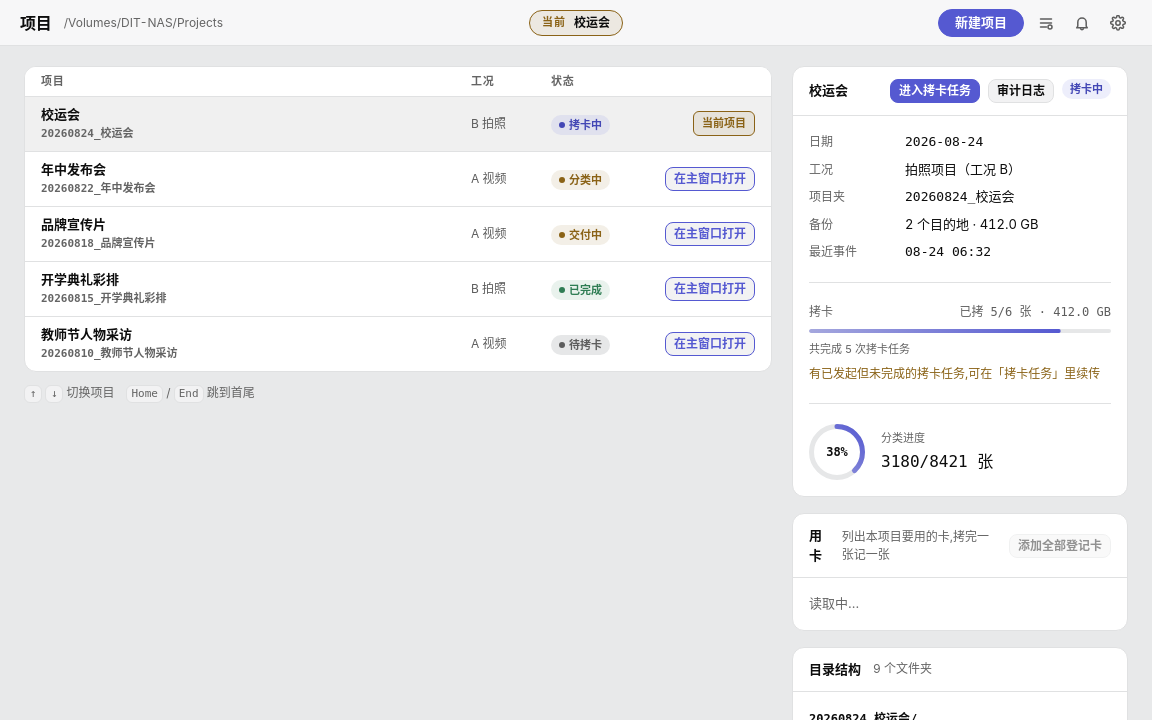
Test: ★ 部分拷贝在日志里的呈现 › 选了卷根显示成「卷根」，不是一对空括号
This screenshot has width=1152, height=720.
Step 1. Click the button with test id "audit-open" → (1021, 91), box [988,79,1054,103]
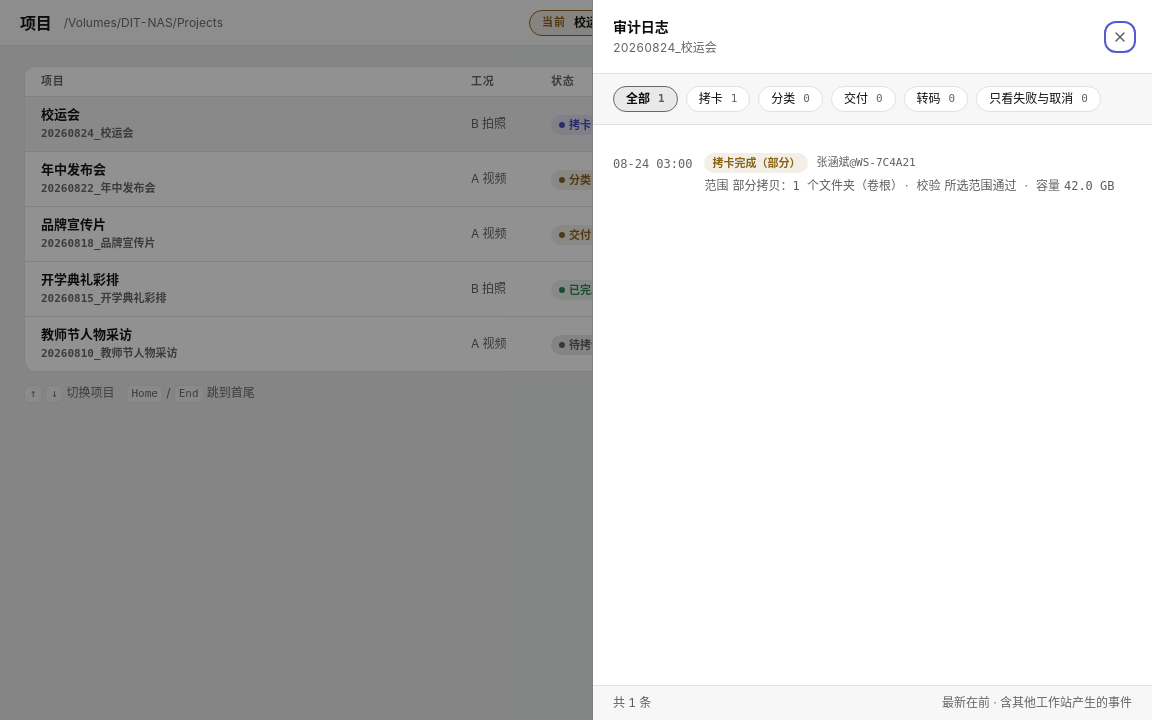
Result: the dialog with test id "audit-log-drawer" is shown at [592,0,1151,719]
Result: the element with test id "audit-detail" shows "卷根" at [732,179,897,193]
